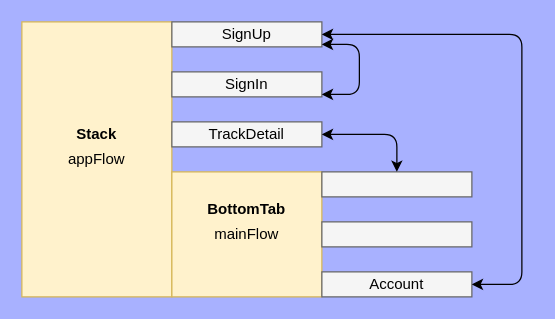
This 555x319 diagram has some shape labels left out. Each missing label, with the centre of its shape:
"TrackCreate" goes at (396,234).
"TrackList" goes at (396,184).
